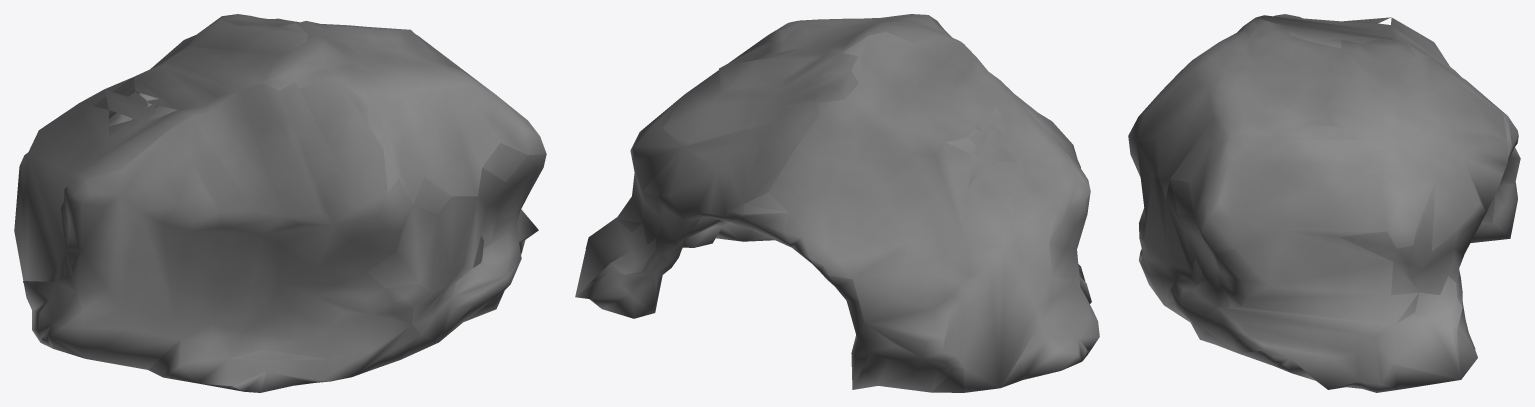
Rendered from Cave.fbx.
3 views of the same model, side by side, from view 1: azimuth 30°, elevation 25°; view 2: azimuth 150°, elevation 25°; view 3: azimuth 270°, elevation 25° (orthographic). The views are drawn at different scales.
Visible parts, largest first — view 1: Cave_2; view 2: Cave_2; view 3: Cave_2.
Part boxes in pixels (<box>): Cave_2: <box>14,14,546,392</box>; Cave_2: <box>575,14,1099,392</box>; Cave_2: <box>1128,14,1520,392</box>.
Bounding box in the file's own units: 2390 × 1212 × 1768.
1 material, 1 textured.
